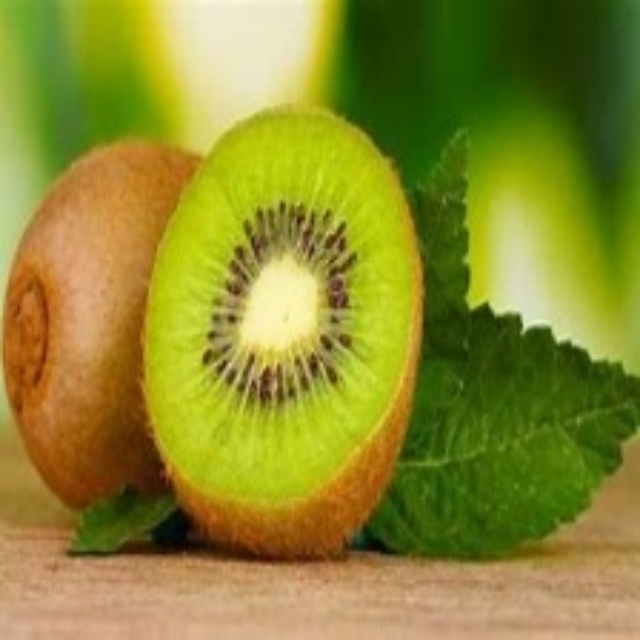kiwi: (144, 99, 427, 558), (5, 141, 208, 515)
